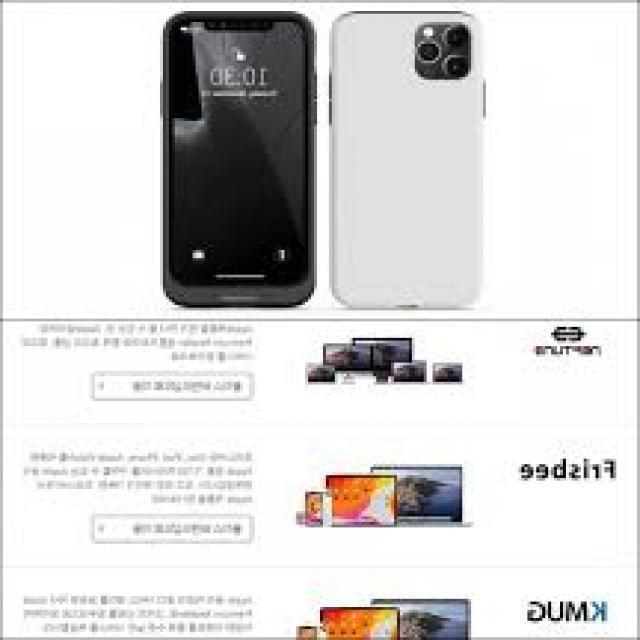mobile: (322, 12, 493, 315), (152, 10, 318, 309)
